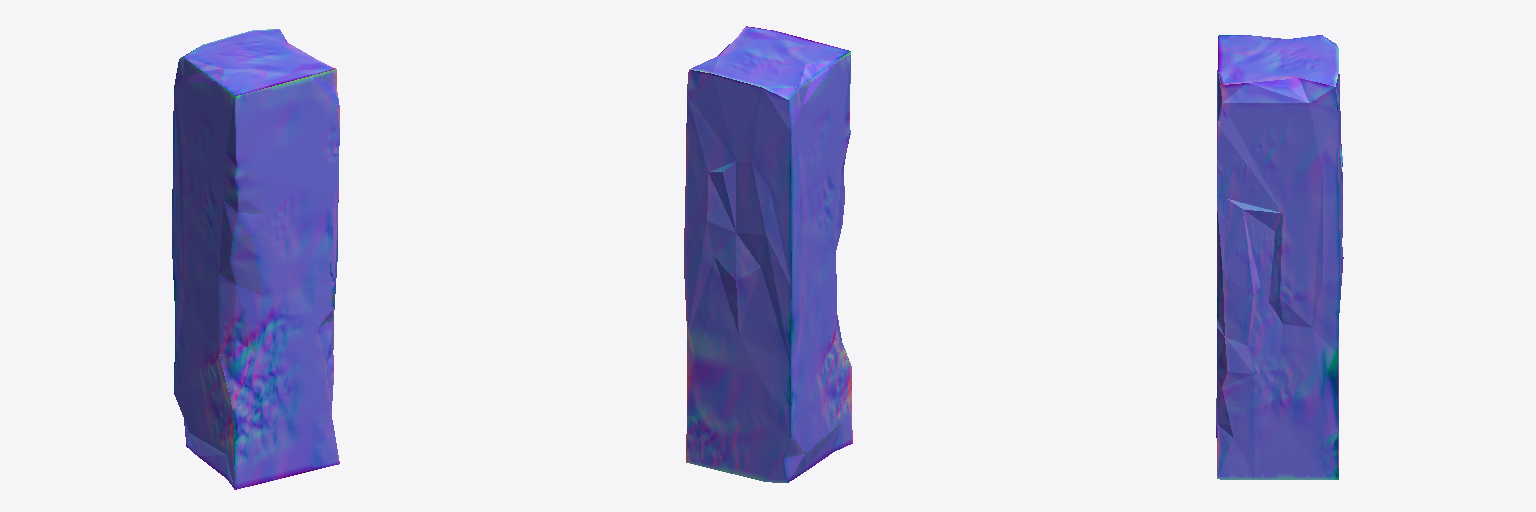
3 views of the same model, side by side, from view 1: azimuth 30°, elevation 25°; view 2: azimuth 150°, elevation 25°; view 3: azimuth 270°, elevation 25° (orthographic).
Visible parts, largest first — view 1: Cube.lowpoly_Cube.001; view 2: Cube.lowpoly_Cube.001; view 3: Cube.lowpoly_Cube.001.
Part boxes in pixels (x1,y1,x2,y2): Cube.lowpoly_Cube.001: (172,29,339,489); Cube.lowpoly_Cube.001: (684,26,852,482); Cube.lowpoly_Cube.001: (1216,35,1343,479).
Bounding box in the file's own units: 2.06 × 7.13 × 2.07.
1 materials, 1 textured.